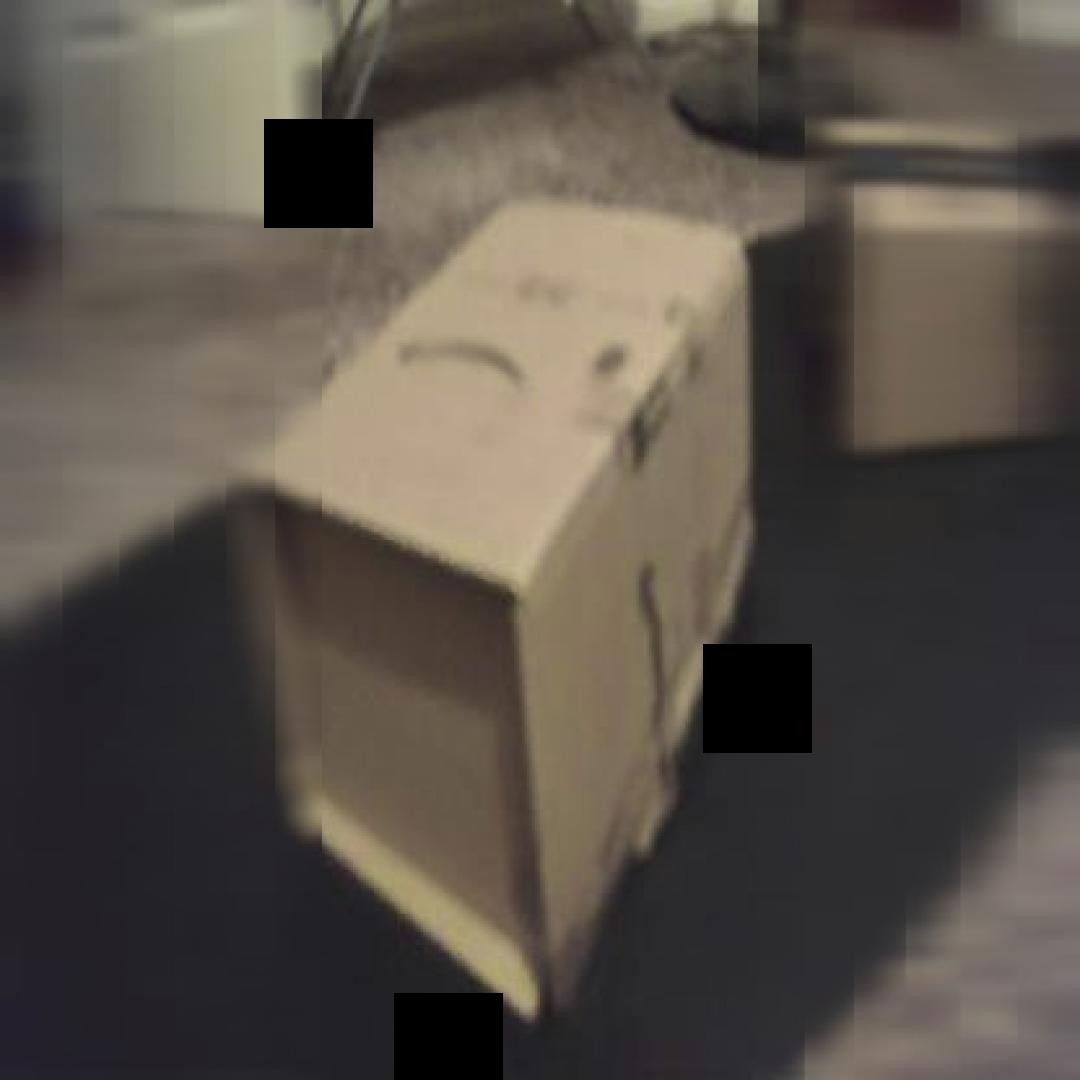package: (228, 163, 763, 1060), (812, 109, 1062, 472)
